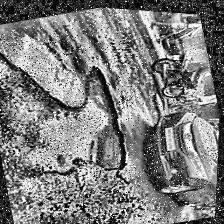pothole: (0, 3, 140, 197)
